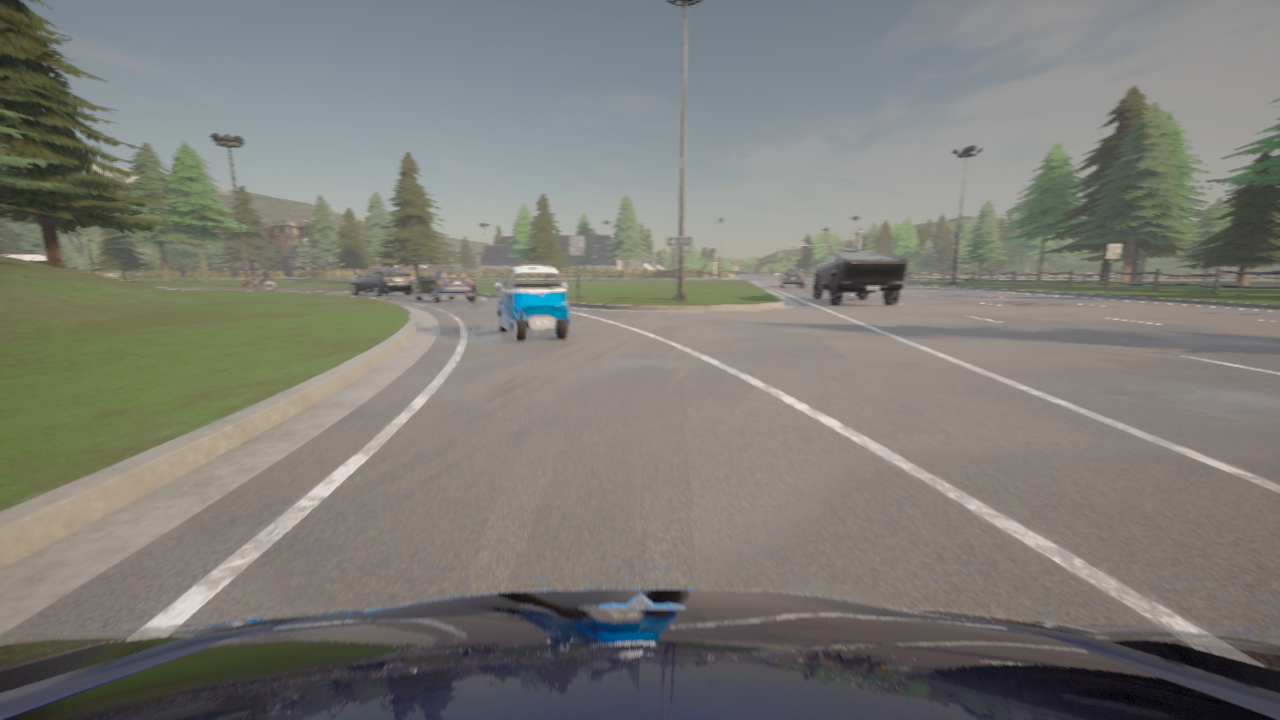cyclist: (0, 588, 1279, 719), (494, 265, 568, 341), (812, 251, 907, 305), (414, 265, 475, 302), (349, 267, 412, 296), (779, 268, 803, 287), (254, 273, 276, 290)
